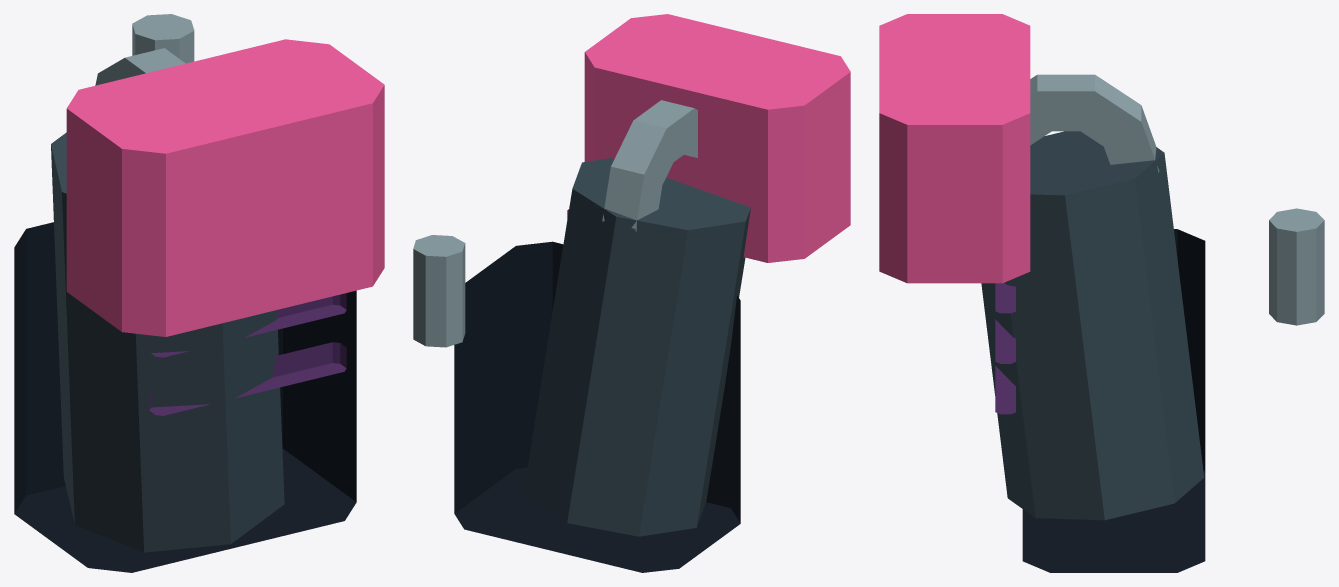
File: enemy_striker_shin_l.obj
3 views of the same model, side by side, from view 1: azimuth 30°, elevation 25°; view 2: azimuth 150°, elevation 25°; view 3: azimuth 270°, elevation 25° (orthographic). The views are drawn at different scales.
Size of the model in its own units: 0.3988 by 0.59 by 0.56.
